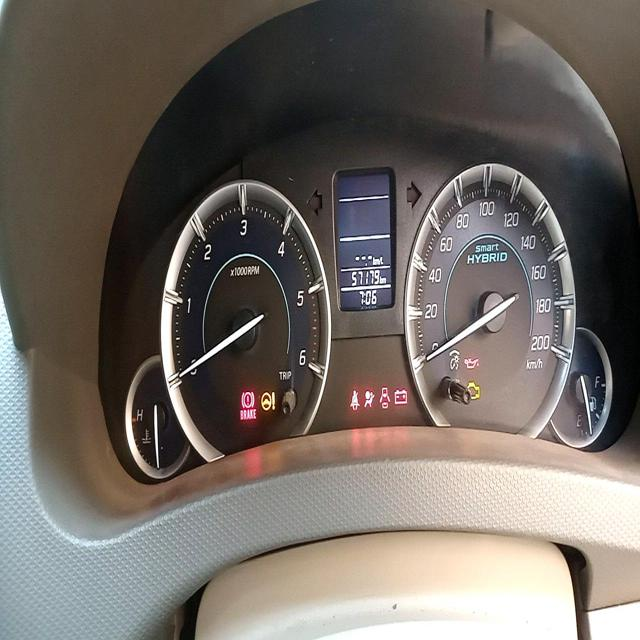odometer: (350, 266, 381, 287)
